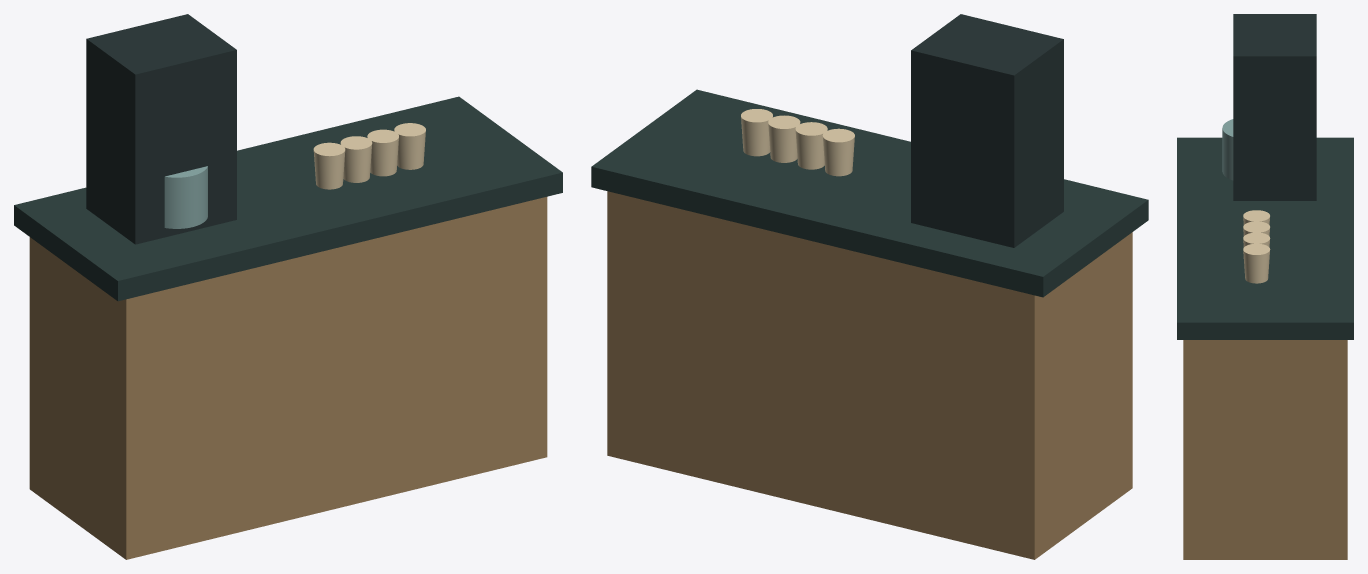
File: coffee_service_station.glb
3 renders of one model, left to right at view 1: azimuth 30°, elevation 25°; view 2: azimuth 150°, elevation 25°; view 3: azimuth 270°, elevation 25°, orthographic. The views are drawn at different scales.
Parts seen in each view (by area): view 1: Coffee workbench, Countertop, Coffee maker, Glass coffee pot, Paper cup, Paper cup.003, Paper cup.001, Paper cup.002; view 2: Coffee workbench, Countertop, Coffee maker, Paper cup, Paper cup.001, Paper cup.002, Paper cup.003; view 3: Coffee workbench, Countertop, Coffee maker, Paper cup.003, Glass coffee pot, Paper cup.001, Paper cup.002, Paper cup.
Boxes of the visible parts, x1,y1,x2,y2 form: Coffee workbench: [29, 197, 547, 559]; Countertop: [14, 96, 562, 301]; Coffee maker: [86, 14, 236, 244]; Glass coffee pot: [164, 166, 207, 228]; Paper cup: [313, 142, 345, 189]; Paper cup.003: [394, 123, 425, 169]; Paper cup.001: [340, 136, 372, 182]; Paper cup.002: [367, 129, 398, 176]; Coffee workbench: [607, 191, 1132, 559]; Countertop: [591, 89, 1148, 297]; Coffee maker: [911, 14, 1063, 247]; Paper cup: [822, 128, 854, 176]; Paper cup.001: [795, 122, 827, 169]; Paper cup.002: [768, 115, 800, 162]; Paper cup.003: [741, 109, 772, 156]; Coffee workbench: [1183, 340, 1347, 559]; Countertop: [1177, 137, 1353, 339]; Coffee maker: [1233, 14, 1316, 200]; Paper cup.003: [1243, 243, 1270, 283]; Glass coffee pot: [1222, 119, 1233, 180]; Paper cup.001: [1243, 221, 1270, 236]; Paper cup.002: [1243, 232, 1270, 247]; Paper cup: [1243, 210, 1269, 224].
Bounding box in the file's own units: 1.49 × 1.45 × 0.602.
